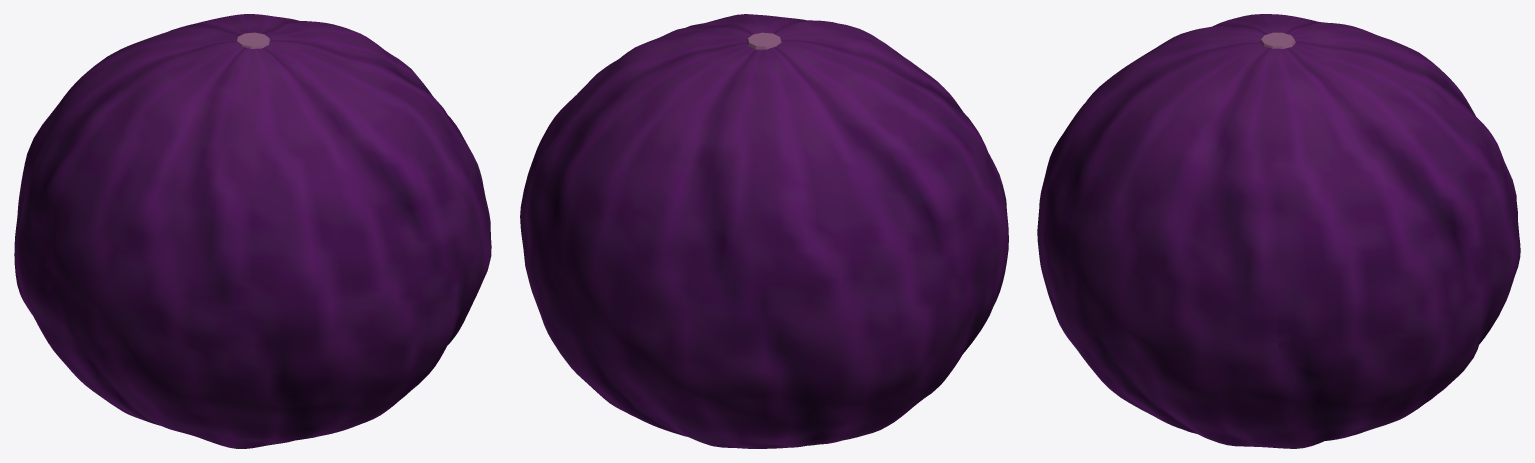
The model's file is chou-rouge.glb.
The picture shows the model from 3 angles, left to right: view 1: azimuth 30°, elevation 25°; view 2: azimuth 150°, elevation 25°; view 3: azimuth 270°, elevation 25°; orthographic projection.
Visible parts, largest first — view 1: entier_peau, moitie_B_peau, moitie_A_peau; view 2: entier_peau, moitie_A_peau, moitie_B_peau, entier_extra0; view 3: entier_peau, moitie_A_peau, moitie_B_peau, entier_extra0.
Boxes of the visible parts, x1,y1,x2,y2 form: entier_peau: (14,14,491,448); moitie_B_peau: (50,33,490,448); moitie_A_peau: (14,14,403,404); entier_peau: (520,14,1008,448); moitie_A_peau: (520,33,971,448); moitie_B_peau: (654,14,1007,388); entier_extra0: (747,32,781,49); entier_peau: (1037,14,1520,448); moitie_A_peau: (1278,15,1520,447); moitie_B_peau: (1037,14,1277,446); entier_extra0: (1260,32,1295,48).
Size of the model in its own units: 2.05 by 1.81 by 2.08.
